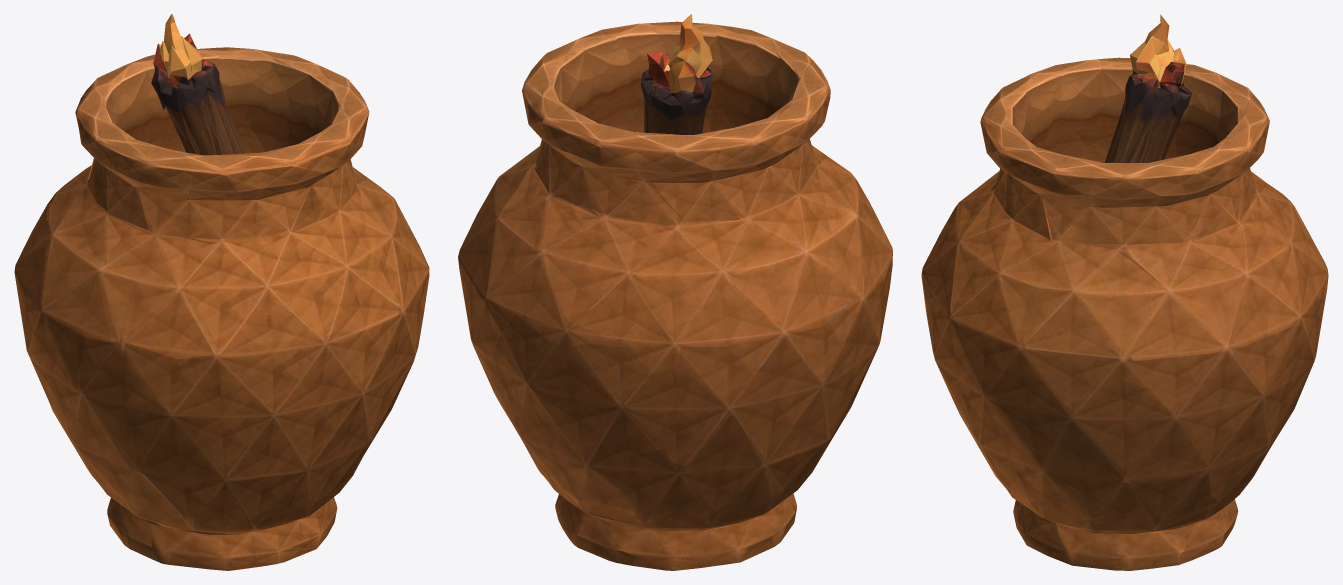
Rendered from jar-torch.glb.
The picture shows the model from 3 angles, left to right: view 1: azimuth 30°, elevation 25°; view 2: azimuth 150°, elevation 25°; view 3: azimuth 270°, elevation 25°; orthographic projection. The views are drawn at different scales.
Size of the model in its own units: 1.42 by 1.9 by 1.42.
Materials: 1 (1 with a texture image).
